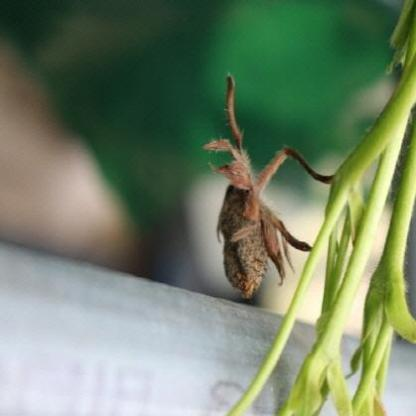Strawberry_Gray_Mold: (202, 74, 320, 299)
